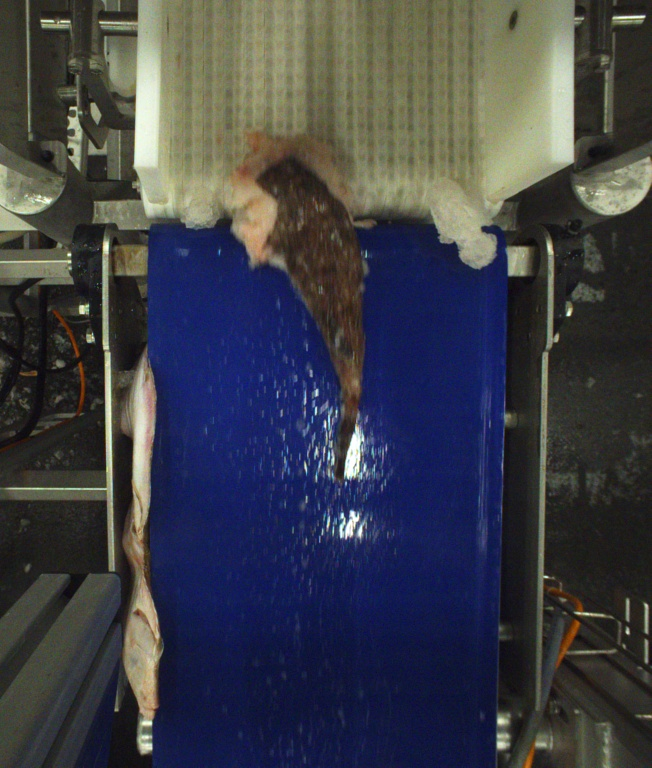ANF: (228, 130, 366, 485)
